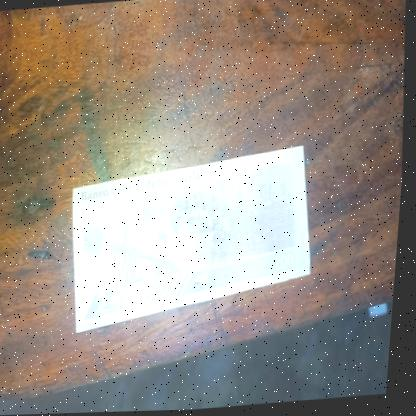two_hundred-back-vef: (64, 145, 325, 335)
